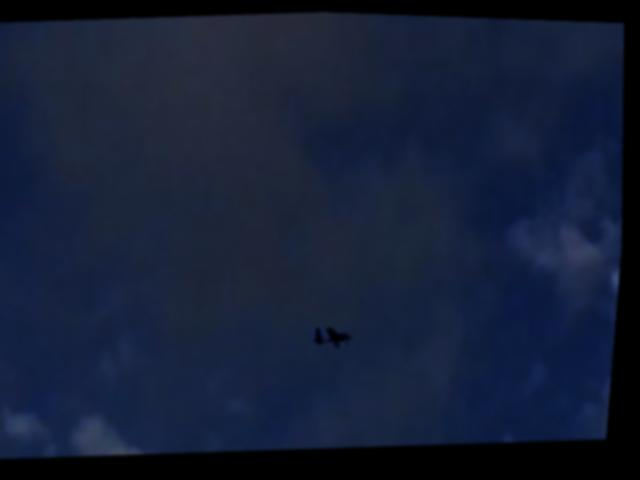uav: (312, 312, 370, 354)
